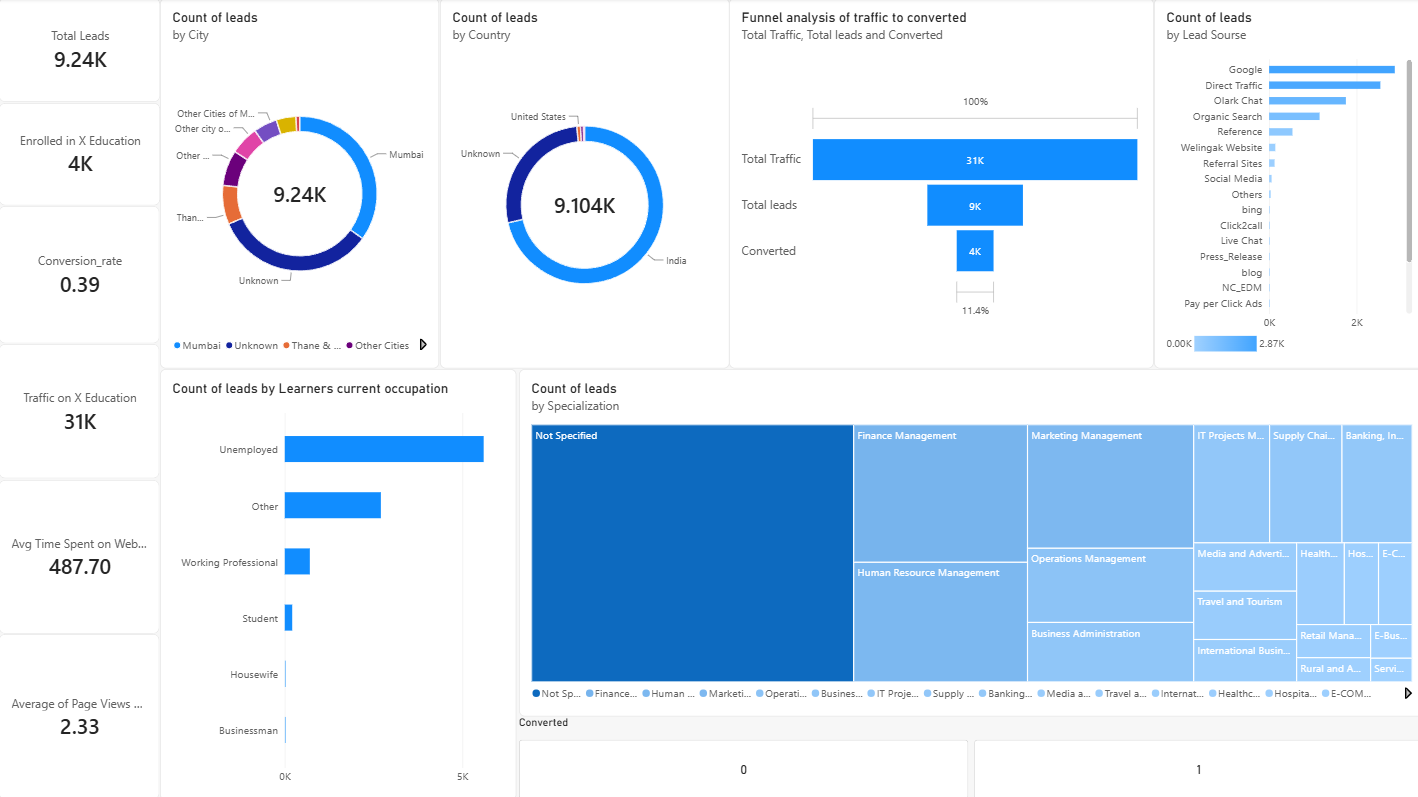

Layout of this report page (visuals, bound fields, positions):
{"tool":"powerbi","page":{"name":"Dashboard1","canvas":[1920,1080],"ordinal":0},"visuals":[{"type":"cardVisual","fields":{"Data":["CountNonNull(Leads.Prospect ID)"]},"box":[0,0,217.4,140.1],"z":0},{"type":"cardVisual","fields":{"Data":["Sum(Leads.Converted)"]},"box":[0,141.5,217.4,138.6],"z":1000},{"type":"cardVisual","fields":{"Data":["Leads.Conversion_rate"]},"box":[0,280.1,216.8,185.8],"z":2000},{"type":"donutChart","fields":{"Category":["Leads.Country"],"Y":["CountNonNull(Leads.Country)"]},"box":[593.8,0,389.5,499],"z":3000},{"type":"donutChart","fields":{"Category":["Leads.City"],"Y":["CountNonNull(Leads.City)"]},"box":[217.4,0,376.4,499],"z":4000},{"type":"cardVisual","fields":{"Data":["Sum(Leads.TotalVisits)"]},"box":[0,465.9,216.8,181.8],"z":5000},{"type":"cardVisual","fields":{"Data":["Avg(Leads.Total Time Spent on Website)"]},"box":[0,649.1,216.8,207.4],"z":6000},{"type":"funnel","title":"Funnel analysis of traffic to converted","fields":{"Y":["Sum(Leads.TotalVisits)","CountNonNull(Leads.Prospect ID)","Sum(Leads.Converted)"]},"box":[983.3,0,571.9,499],"z":7000},{"type":"cardVisual","fields":{"Data":["Avg(Leads.Page Views Per Visit)"]},"box":[0,856.5,216.8,223.5],"z":8000},{"type":"advancedSlicerVisual","fields":{"Values":["Leads.Converted"]},"box":[700.3,967.3,1219.7,112.3],"z":9000},{"type":"barChart","fields":{"Category":["Leads.Lead Source"],"Y":["CountNonNull(Leads.Prospect ID)"]},"box":[1555.3,0,364.7,499],"z":10000},{"type":"barChart","fields":{"Category":["Leads.What is your current occupation"],"Y":["CountNonNull(Leads.Prospect ID)"]},"box":[217.4,499,480,580.7],"z":11000},{"type":"treemap","fields":{"Group":["Leads.Specialization"],"Values":["CountNonNull(Leads.Prospect ID)"]},"box":[700.3,499,1219.7,468.3],"z":12000}]}

Visuals, with their boxes in screenshot pixels (x1, y1, x2, y2), scaled from the page's 1920x1080 canvas onto the 1418x797 screenshot:
cardVisual - CountNonNull(Leads.Prospect ID): box(0, 0, 161, 103)
cardVisual - Sum(Leads.Converted): box(0, 104, 161, 207)
cardVisual - Leads.Conversion_rate: box(0, 207, 160, 344)
donutChart - Leads.Country x CountNonNull(Leads.Country): box(439, 0, 726, 368)
donutChart - Leads.City x CountNonNull(Leads.City): box(161, 0, 439, 368)
cardVisual - Sum(Leads.TotalVisits): box(0, 344, 160, 478)
cardVisual - Avg(Leads.Total Time Spent on Website): box(0, 479, 160, 632)
"Funnel analysis of traffic to converted" funnel: box(726, 0, 1149, 368)
cardVisual - Avg(Leads.Page Views Per Visit): box(0, 632, 160, 796)
advancedSlicerVisual - Leads.Converted: box(517, 714, 1417, 796)
barChart - Leads.Lead Source x CountNonNull(Leads.Prospect ID): box(1149, 0, 1417, 368)
barChart - Leads.What is your current occupation x CountNonNull(Leads.Prospect ID): box(161, 368, 515, 796)
treemap - Leads.Specialization x CountNonNull(Leads.Prospect ID): box(517, 368, 1417, 714)
